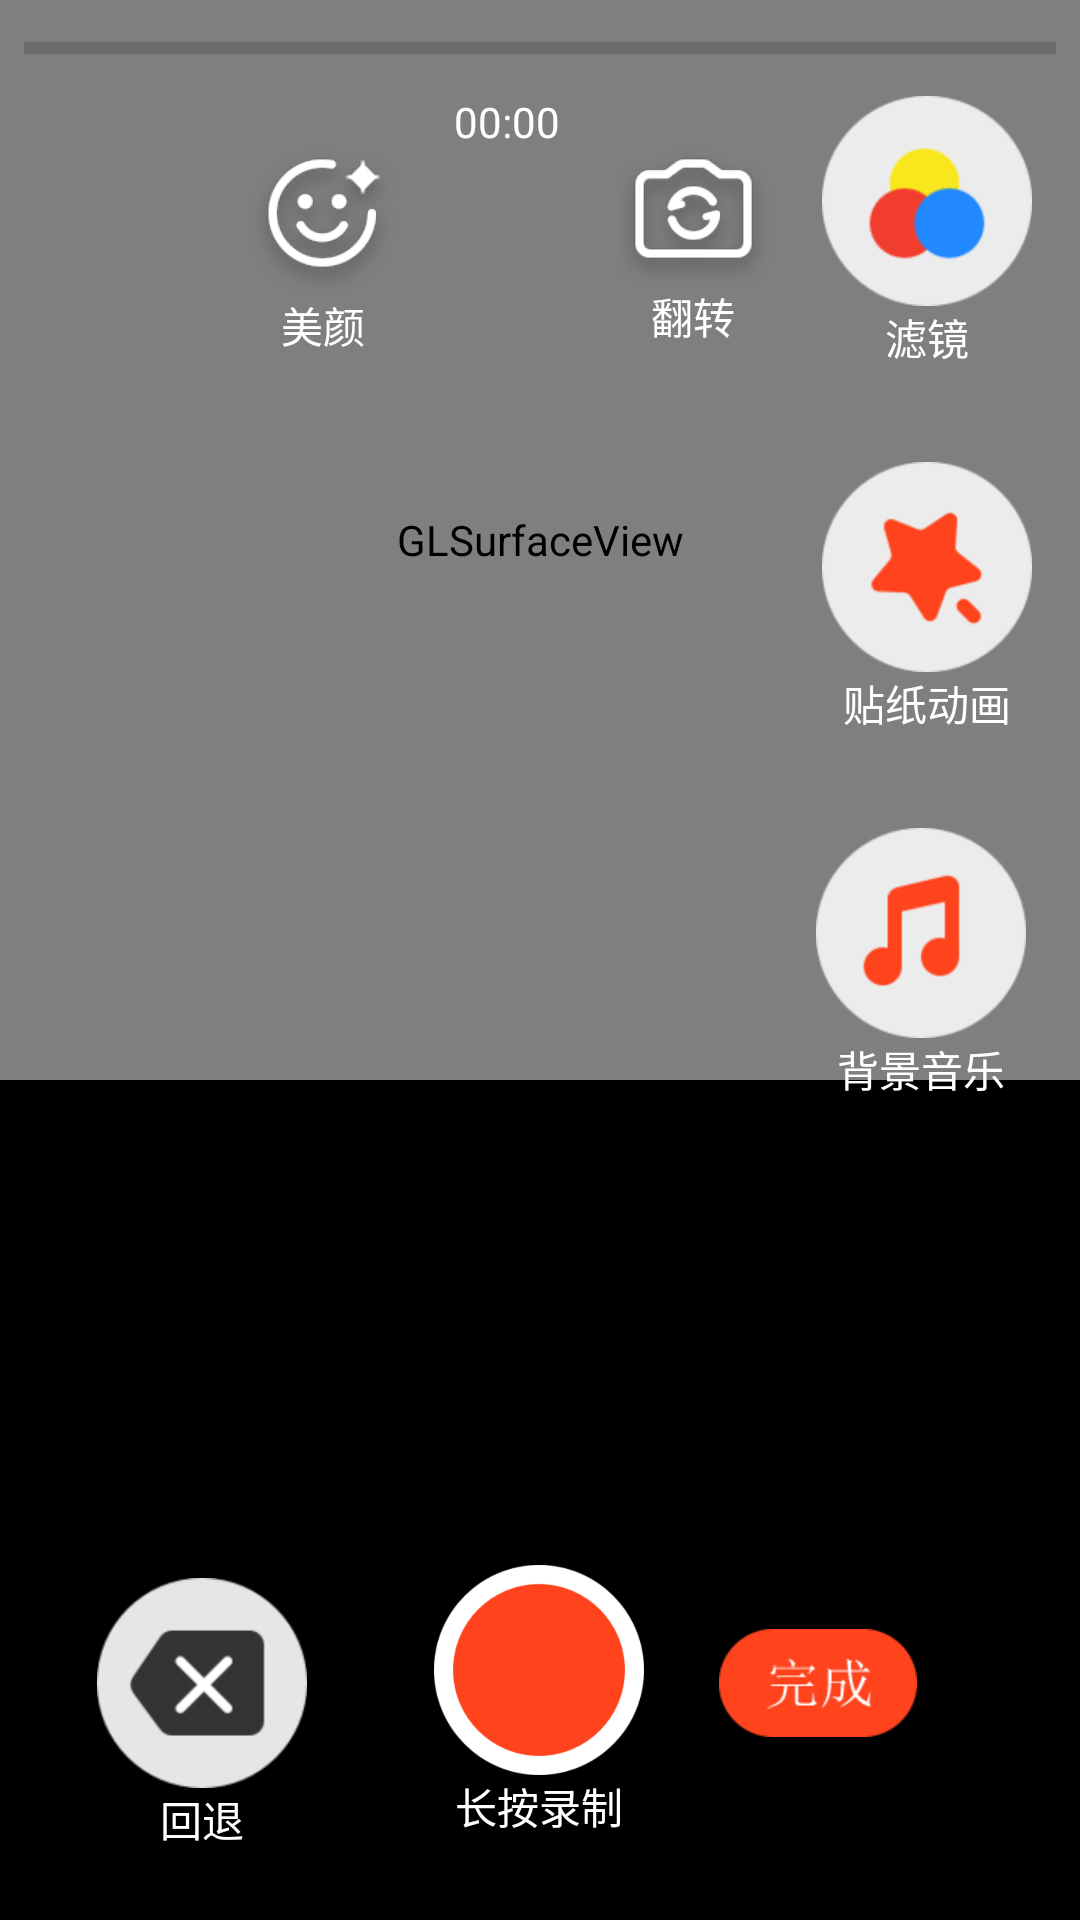

Icons on this 1080px x 1920px Android screen, each with the point to tap as [x,y]:
add effect: [927,567]
